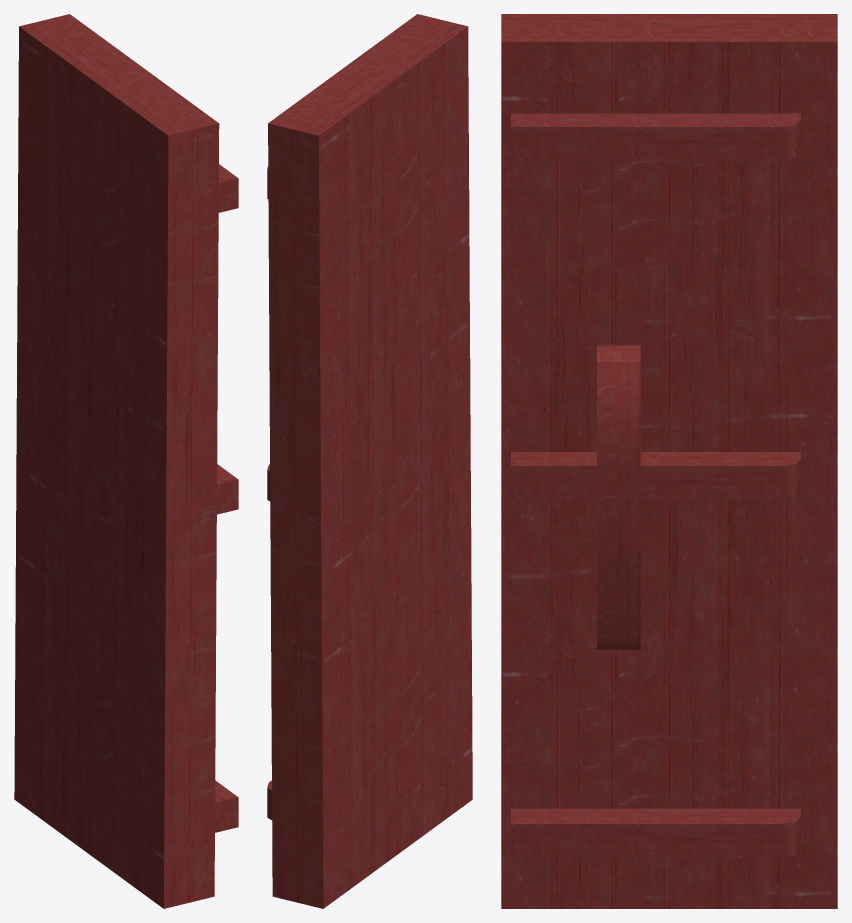
Rendered from SM_D_Wood_5_2.fbx.
3 renders of one model, left to right at view 1: azimuth 30°, elevation 25°; view 2: azimuth 150°, elevation 25°; view 3: azimuth 270°, elevation 25°, orthographic. The views are drawn at different scales.
Visible parts, largest first — view 1: SM_D_Wood_5_2; view 2: SM_D_Wood_5_2; view 3: SM_D_Wood_5_2.
Part boxes in pixels (bbox=[...]): SM_D_Wood_5_2: bbox=[14, 14, 238, 908]; SM_D_Wood_5_2: bbox=[267, 14, 472, 908]; SM_D_Wood_5_2: bbox=[501, 14, 837, 908].
Bounding box in the file's own units: 28.55 × 78.45 × 224.
Materials: 1 (1 with a texture image).
